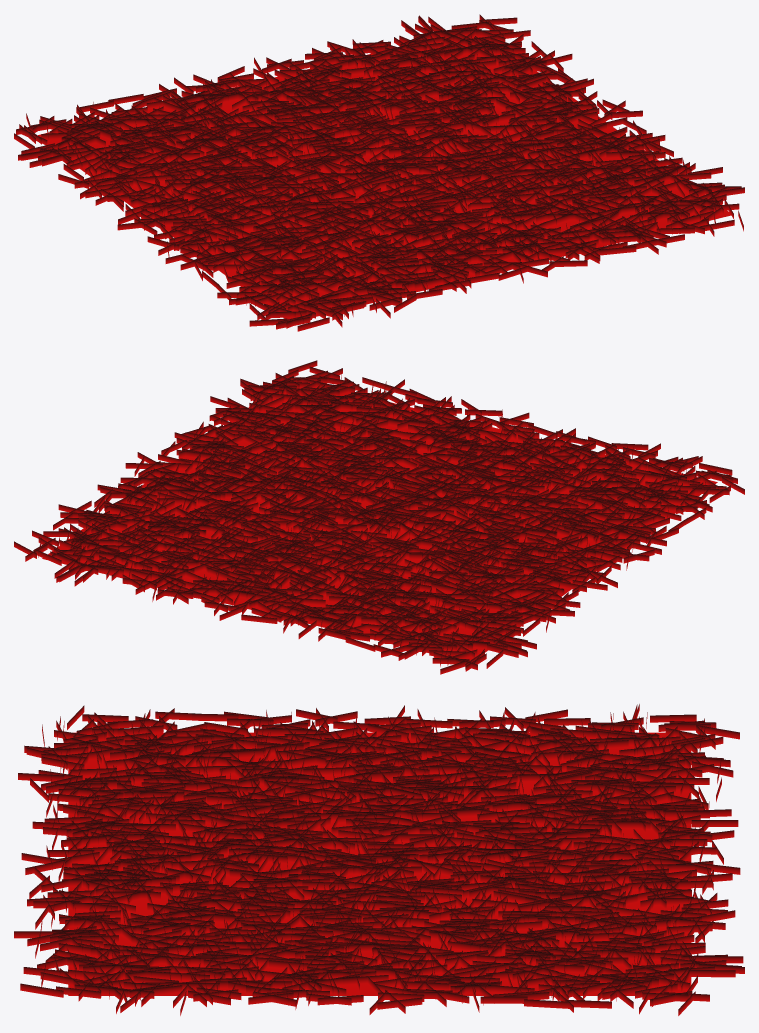
The model's file is export_Grass.fbx.
3 views of the same model, one above another, from view 1: azimuth 30°, elevation 25°; view 2: azimuth 150°, elevation 25°; view 3: azimuth 270°, elevation 25° (orthographic). The views are drawn at different scales.
Visible parts, largest first — view 1: mesh_Grass; view 2: mesh_Grass; view 3: mesh_Grass.
Boxes of the visible parts, x1,y1,x2,y2 form: mesh_Grass: (14,14,744,331); mesh_Grass: (14,360,744,674); mesh_Grass: (14,704,744,1015).
Bounding box in the file's own units: 1173 × 12.5 × 1173.
